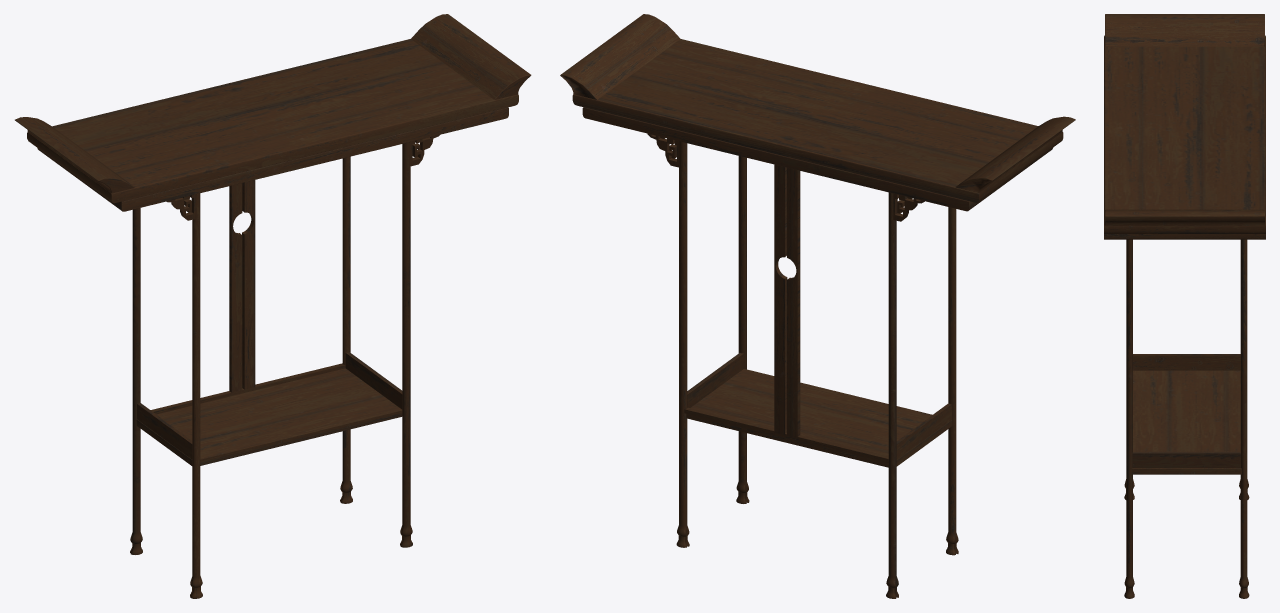
File: table.fbx
3 views of the same model, side by side, from view 1: azimuth 30°, elevation 25°; view 2: azimuth 150°, elevation 25°; view 3: azimuth 270°, elevation 25° (orthographic). The views are drawn at different scales.
Visible parts, largest first — view 1: table:table_u_p, table:plane, table:back_plant1, table:pCube4, table:table_o_n, table:leg_2, table:leg_4, table:leg_3, table:leg_1, table:tauno_left, table:pCube11, table:back (+2 smaller); view 2: table:table_u_p, table:plane, table:back_plant1, table:pCube4, table:table_o_n, table:leg_1, table:leg_3, table:leg_4, table:leg_2, table:tauno_left, table:back, table:pCube11 (+1 smaller); view 3: table:table_u_p, table:plane, table:tauno_left, table:leg_1, table:pCube4, table:leg_2, table:pCube11, table:plane_left, table:table_o_n.
Boxes of the visible parts, x1,y1,x2,y2 form: table:table_u_p: (27,39,518,203); table:plane: (136,368,402,465); table:back_plant1: (229,180,255,392); table:pCube4: (411,14,531,99); table:table_o_n: (37,107,508,211); table:leg_2: (400,142,412,547); table:leg_4: (190,193,202,598); table:leg_3: (130,208,142,554); table:leg_1: (340,156,352,503); table:tauno_left: (15,117,134,193); table:pCube11: (345,352,402,409); table:back: (151,363,345,414); table:table_u_p: (572,39,1063,202); table:plane: (686,369,952,467); table:back_plant1: (774,164,800,438); table:pCube4: (560,14,680,99); table:table_o_n: (582,107,1052,211); table:leg_1: (676,141,689,547); table:leg_3: (886,192,898,598); table:leg_4: (946,207,958,555); table:leg_2: (736,156,749,503); table:tauno_left: (955,116,1075,192); table:back: (684,407,888,462); table:pCube11: (687,353,743,407); table:table_u_p: (1104,35,1265,233); table:plane: (1131,370,1241,474); table:tauno_left: (1105,14,1264,46); table:leg_1: (1239,239,1249,598); table:pCube4: (1105,209,1264,225); table:leg_2: (1124,239,1134,598); table:pCube11: (1132,451,1240,467); table:plane_left: (1133,354,1240,370); table:table_o_n: (1104,234,1265,239).
Bounding box in the file's own units: 10.46 × 10.45 × 3.53.
1 material, 1 textured.
